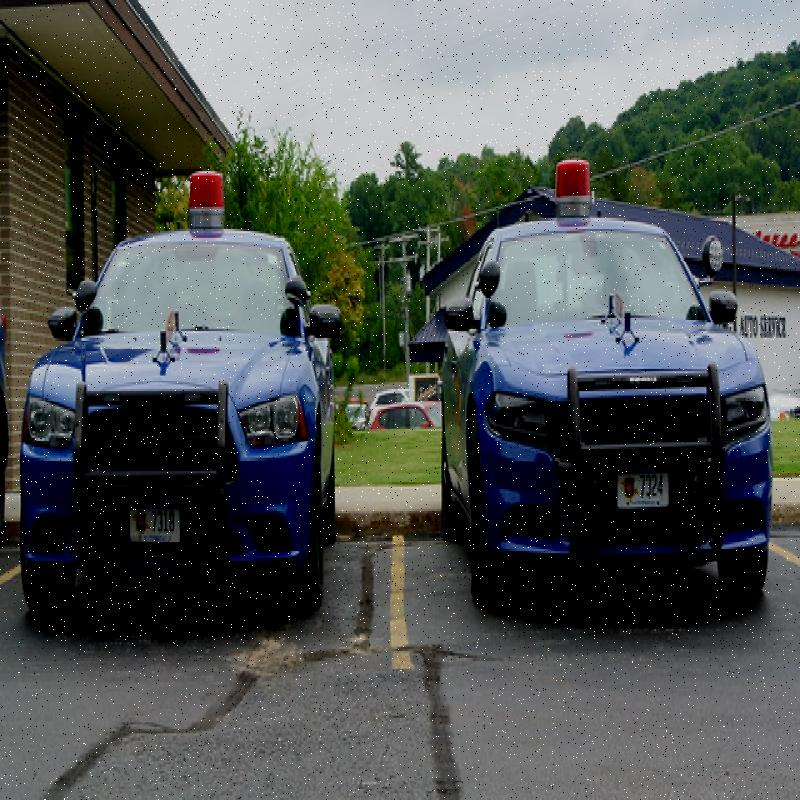AmbulanceSiren: (165, 164, 236, 228), (552, 152, 602, 229)
